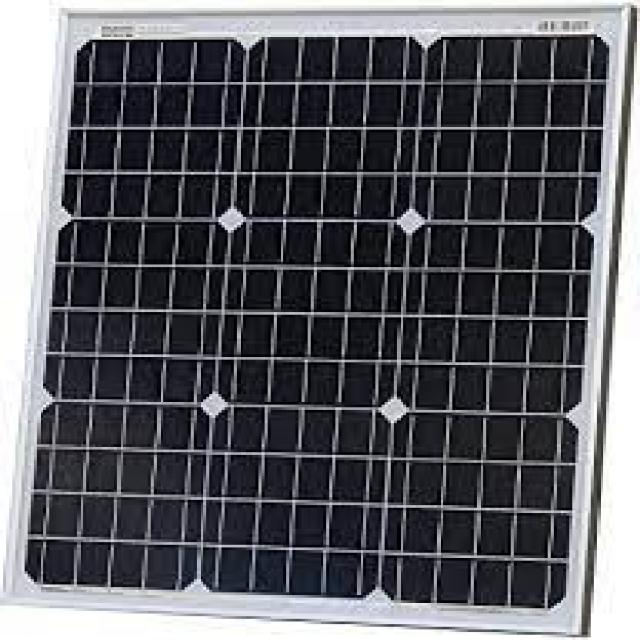no faulty: (63, 20, 583, 598)
